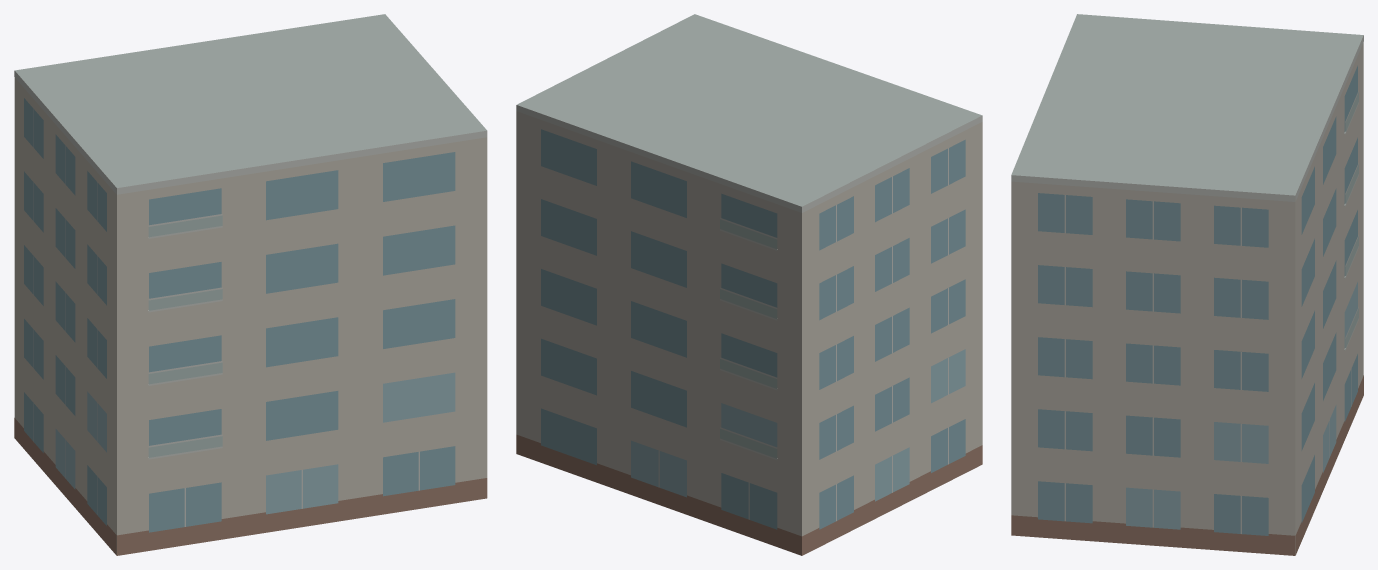
Rendered from survey-upis-32665587.glb.
3 views of the same model, side by side, from view 1: azimuth 30°, elevation 25°; view 2: azimuth 150°, elevation 25°; view 3: azimuth 270°, elevation 25° (orthographic). The views are drawn at different scales.
Parts seen in each view (by area): view 1: survey-upis-32665587.tmp; view 2: survey-upis-32665587.tmp; view 3: survey-upis-32665587.tmp.
Part boxes in pixels (<box>): survey-upis-32665587.tmp: <box>14,14,487,555</box>; survey-upis-32665587.tmp: <box>516,14,982,555</box>; survey-upis-32665587.tmp: <box>1011,14,1363,555</box>.
Bounding box in the file's own units: 14.71 × 13.6 × 12.07.
